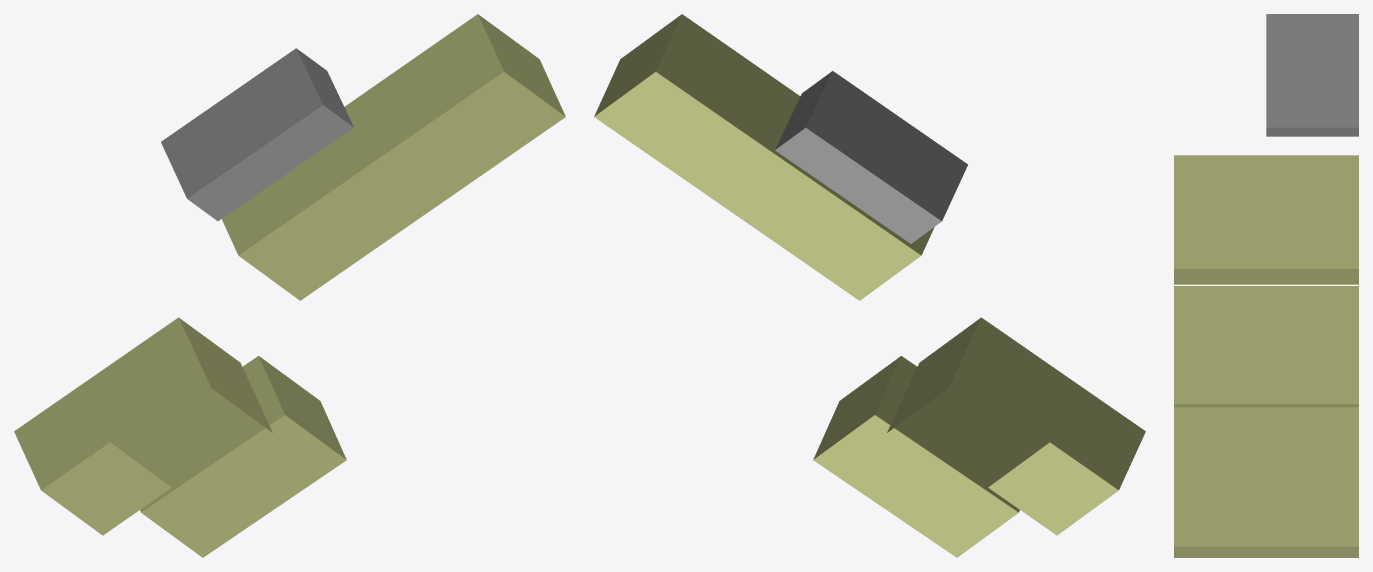
3 views of the same model, side by side, from view 1: azimuth 30°, elevation 25°; view 2: azimuth 150°, elevation 25°; view 3: azimuth 270°, elevation 25° (orthographic). The views are drawn at different scales.
Visible parts, largest first — view 1: 0_1_0_0_0_1_2_2_1_2; view 2: 0_1_0_0_0_1_2_2_1_2; view 3: 0_1_0_0_0_1_2_2_1_2.
Boxes of the visible parts, <box> form: 0_1_0_0_0_1_2_2_1_2: <box>14,14,565,557</box>; 0_1_0_0_0_1_2_2_1_2: <box>594,14,1145,557</box>; 0_1_0_0_0_1_2_2_1_2: <box>1174,14,1358,557</box>.
Bounding box in the file's own units: 27.45 × 22.84 × 6.
